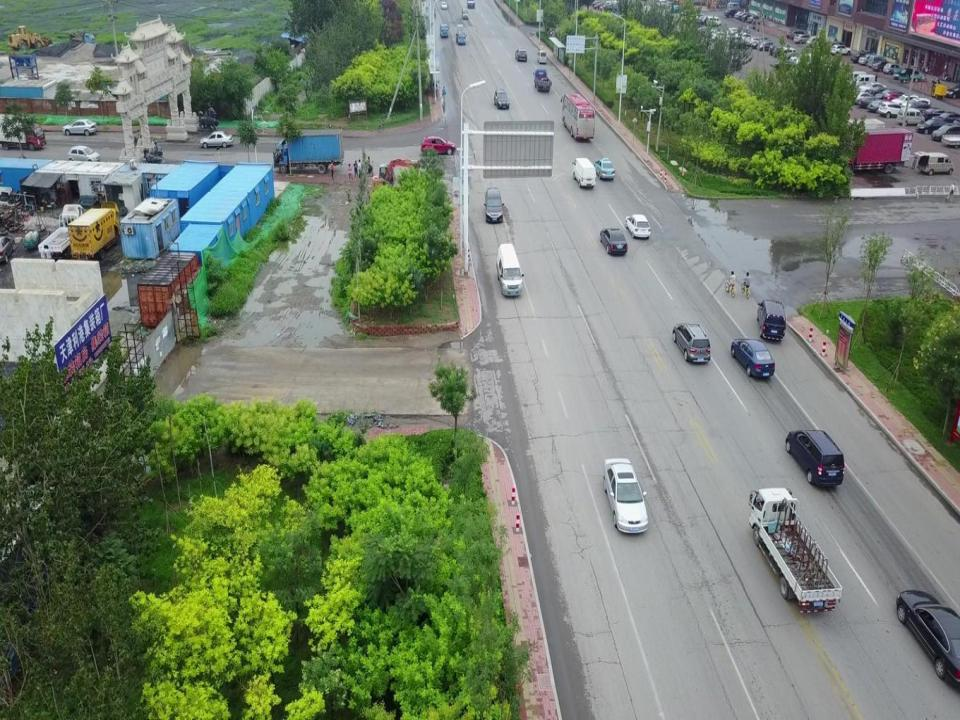bus: (561, 93, 595, 143)
car: (898, 590, 960, 692), (602, 460, 650, 535), (786, 426, 845, 487), (732, 335, 774, 382), (673, 320, 711, 364), (757, 298, 785, 342), (600, 226, 626, 261), (483, 187, 505, 225), (421, 135, 457, 156), (198, 130, 234, 150), (68, 145, 100, 167), (626, 212, 652, 239), (62, 117, 98, 136), (594, 157, 616, 181), (897, 108, 924, 124), (878, 103, 906, 118), (917, 118, 947, 132), (932, 111, 960, 125), (922, 108, 950, 121), (492, 90, 510, 110), (875, 89, 906, 100), (858, 96, 886, 108), (867, 100, 894, 112), (892, 94, 919, 106), (889, 95, 919, 105), (910, 102, 934, 114), (894, 68, 920, 79), (859, 81, 885, 92), (868, 54, 890, 66), (872, 59, 894, 71), (853, 74, 876, 85), (831, 44, 851, 55), (751, 39, 772, 49), (514, 47, 527, 63), (859, 55, 880, 64), (792, 33, 812, 42), (851, 53, 871, 62), (884, 63, 902, 73), (758, 41, 775, 51), (706, 17, 722, 26), (441, 0, 446, 12)
truck: (750, 488, 842, 612), (818, 124, 911, 176), (274, 136, 344, 168), (0, 114, 47, 150), (533, 71, 551, 95), (439, 22, 450, 38), (456, 29, 466, 44)
van: (494, 242, 523, 298), (917, 151, 953, 176), (573, 156, 595, 189), (536, 48, 548, 62), (462, 7, 470, 17)
